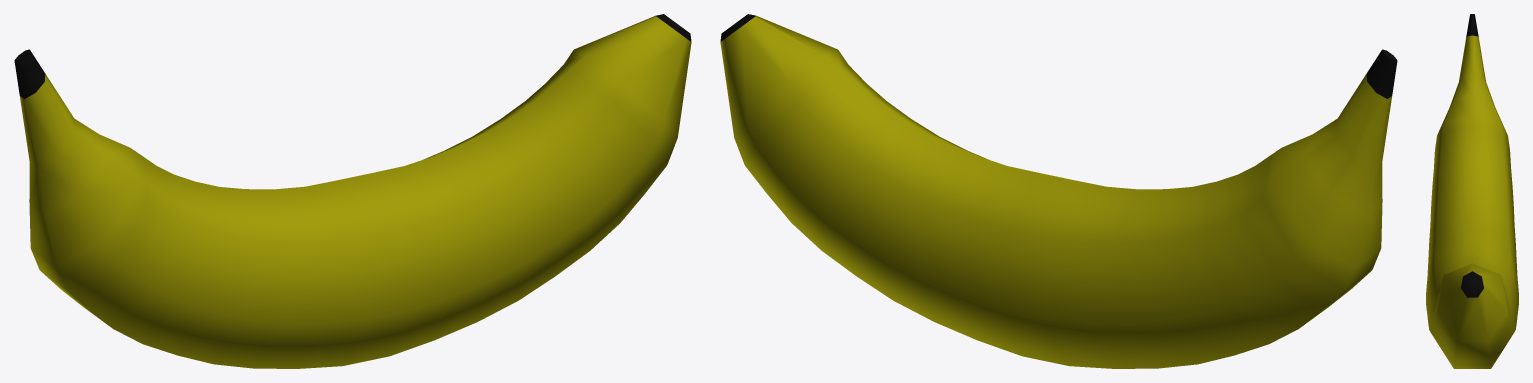
The model's file is Banan 1.FBX.
The picture shows the model from 3 angles, left to right: view 1: azimuth 30°, elevation 25°; view 2: azimuth 150°, elevation 25°; view 3: azimuth 270°, elevation 25°; orthographic projection. The views are drawn at different scales.
Parts seen in each view (by area): view 1: Cylinder001; view 2: Cylinder001; view 3: Cylinder001.
Part boxes in pixels (x1,y1,x2,y2): Cylinder001: (14, 14, 691, 368); Cylinder001: (720, 14, 1397, 368); Cylinder001: (1426, 14, 1518, 368).
Bounding box in the file's own units: 54.15 × 29.12 × 10.74.
